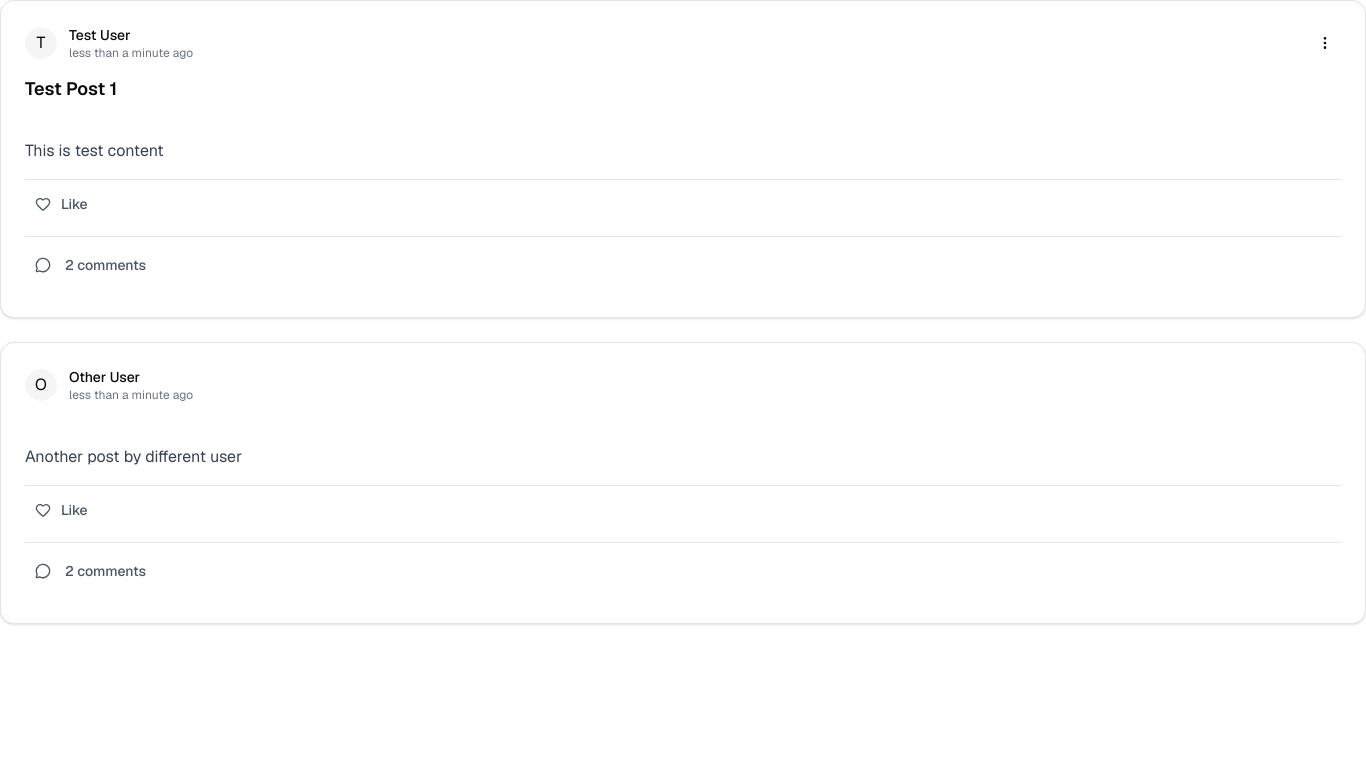
Test: PostFeed › Post Management Dropdown › opens delete dialog when Delete Post is clicked
The image size is (1366, 768).
Click the 1st button. click: (1325, 43)
box: [1309,27,1341,59]
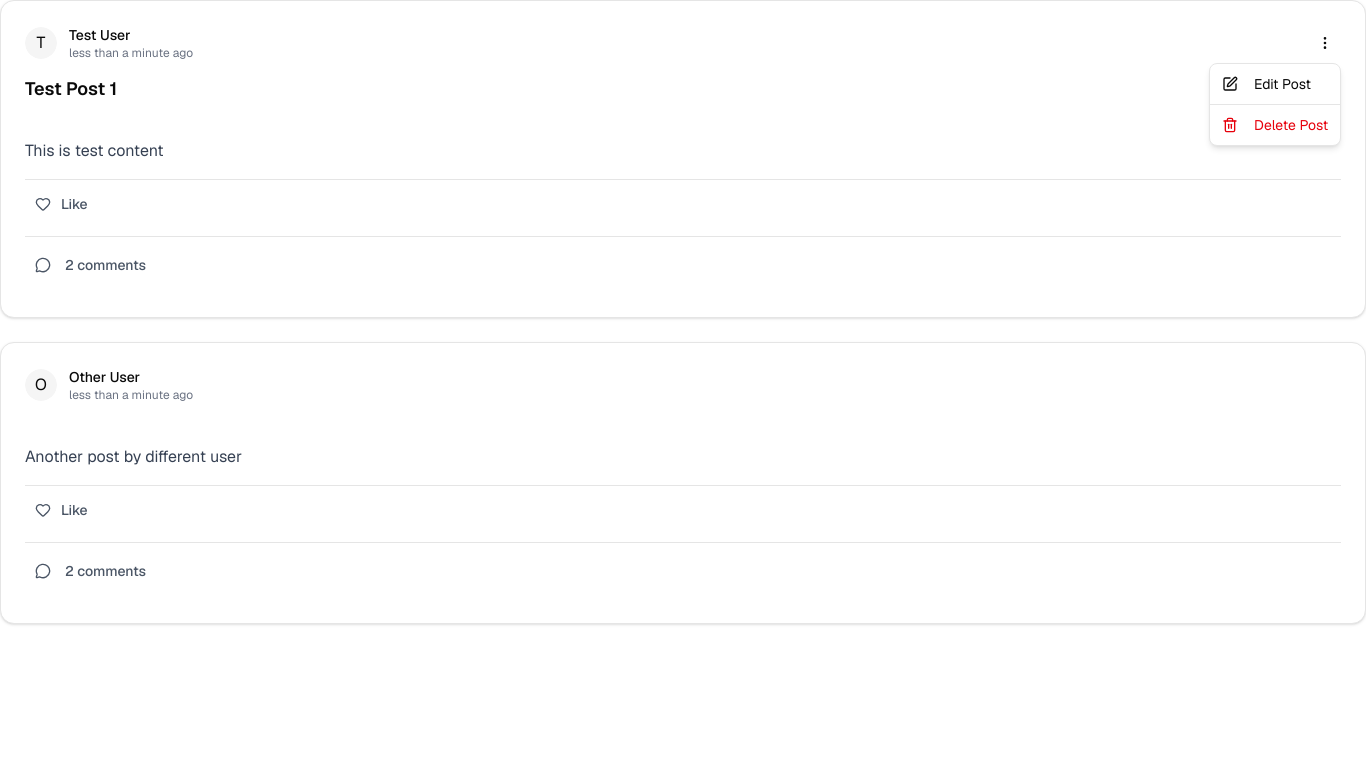
# Click Delete Post
Click the menu item "Delete Post". click: (1275, 125)
box: [1222,116,1328,134]
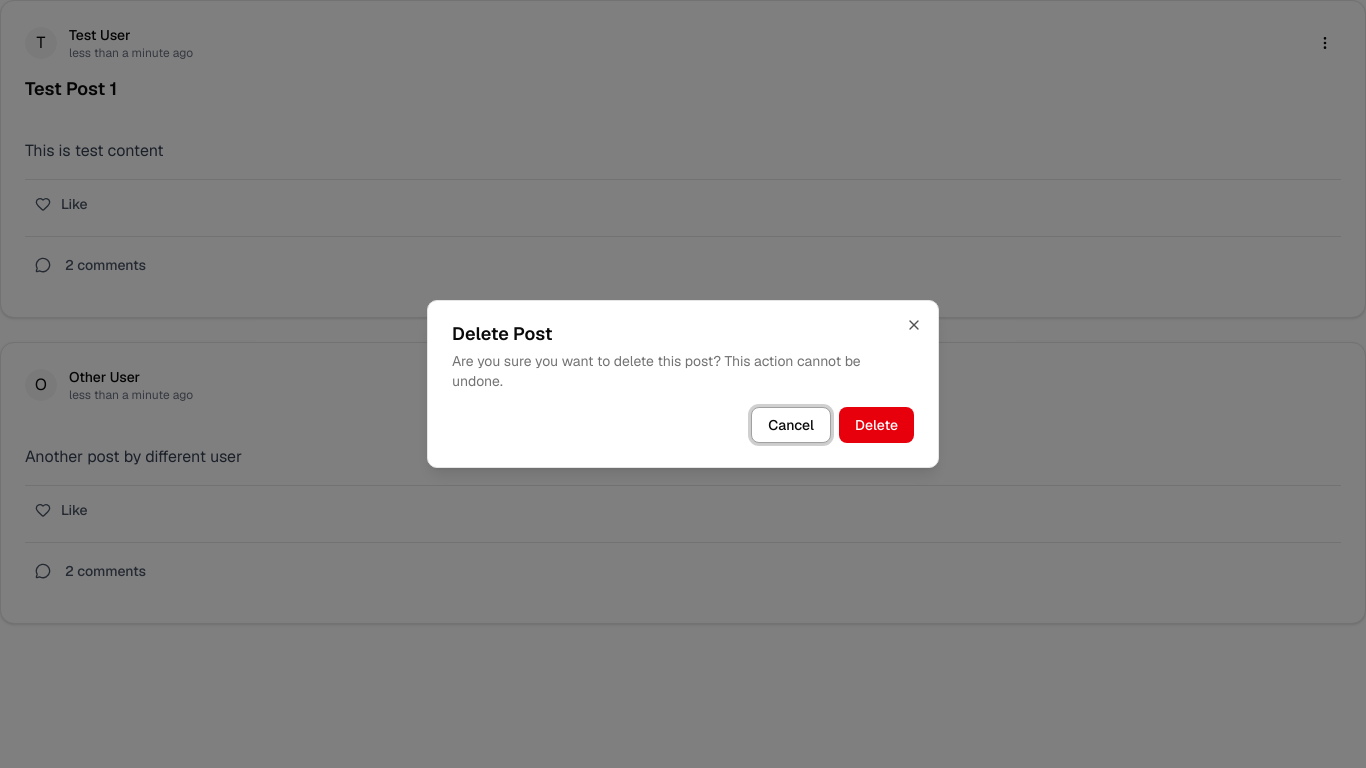
Result: the dialog is shown at [427,300,939,468]
Result: the text "Are you sure you want to delete this post" is shown at [452,352,861,390]
